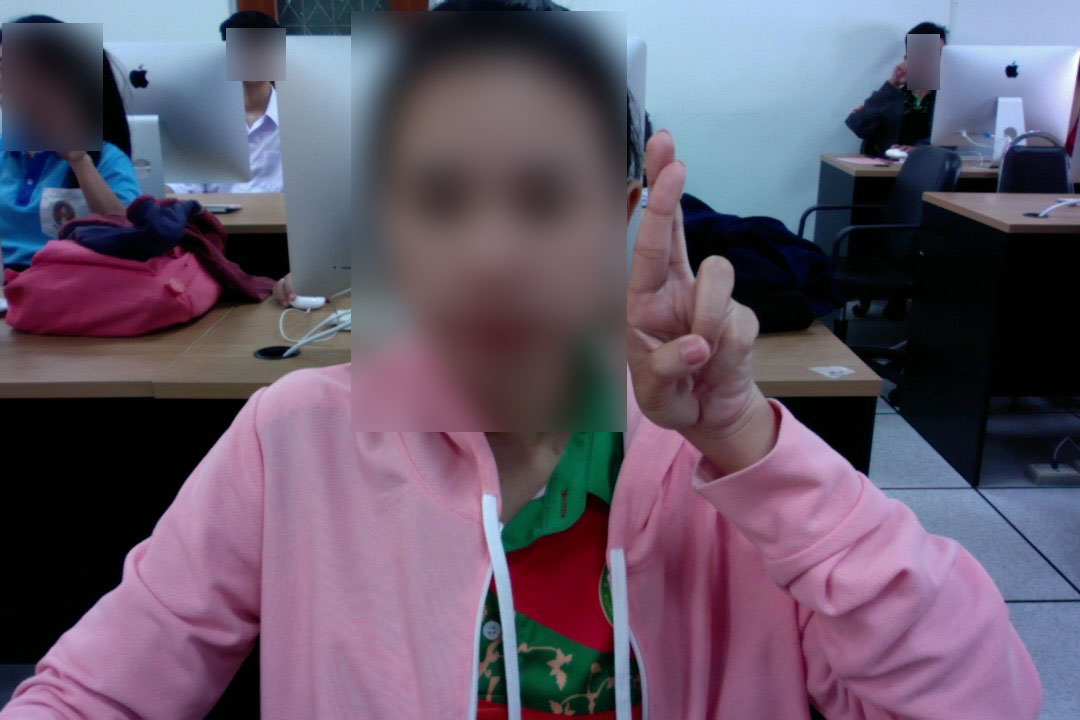rao: (616, 128, 780, 439)
